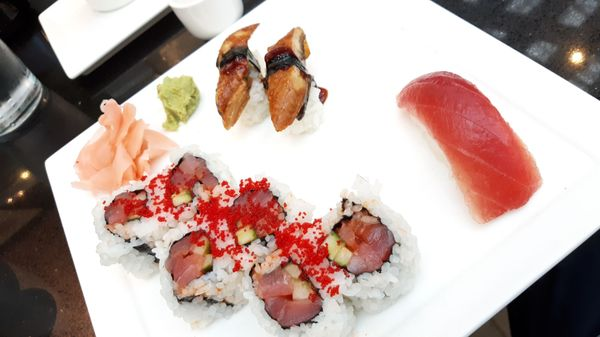pizza: (0, 32, 47, 143)
